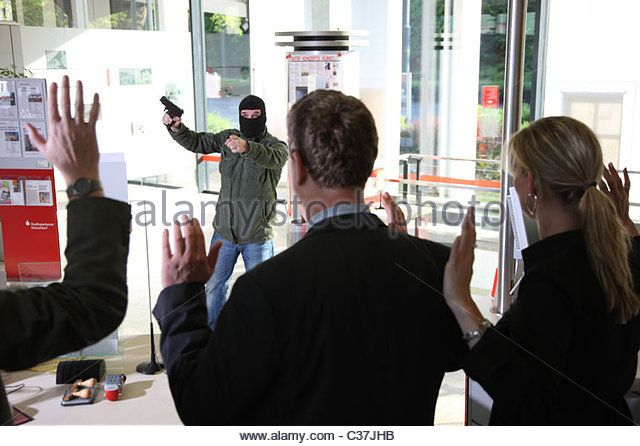gun: (150, 85, 188, 143)
